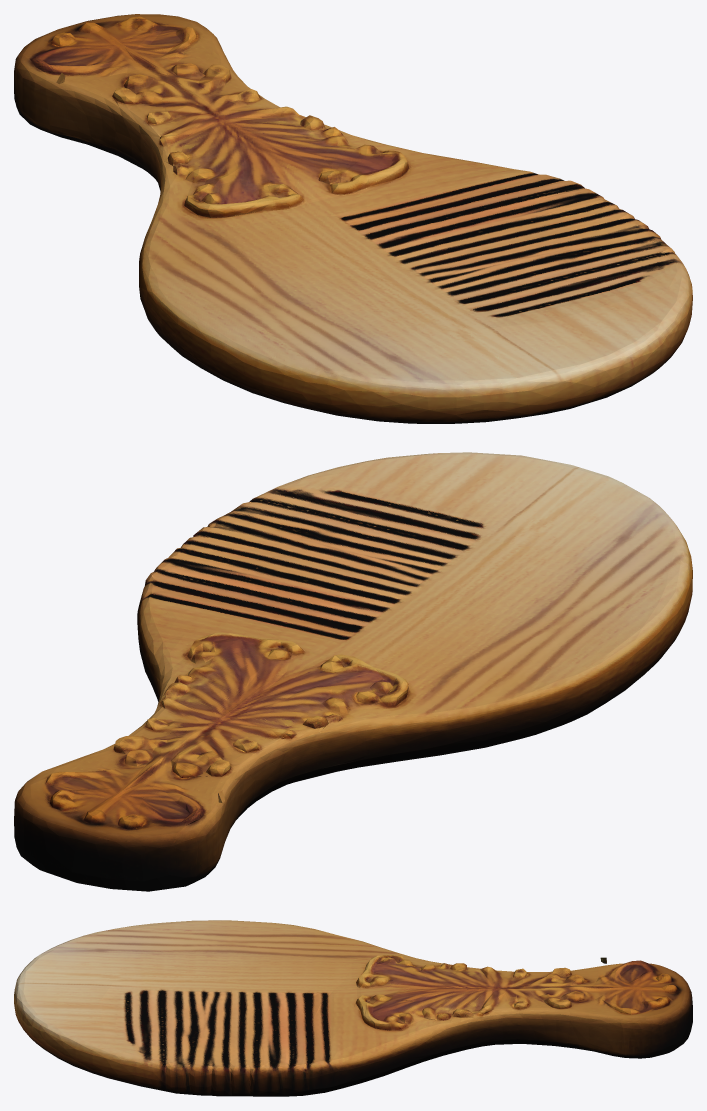
Rendered from wooden-back-scratcher-3d.jpeg.glb.
3 views of the same model, one above another, from view 1: azimuth 30°, elevation 25°; view 2: azimuth 150°, elevation 25°; view 3: azimuth 270°, elevation 25° (orthographic). The views are drawn at different scales.
Visible parts, largest first — view 1: world; view 2: world; view 3: world.
Part boxes in pixels (<box>): world: <box>14,14,692,423</box>; world: <box>14,452,692,891</box>; world: <box>14,920,692,1096</box>.
Bounding box in the file's own units: 0.5281 × 0.0767 × 1.
Materials: 1 (1 with a texture image).
